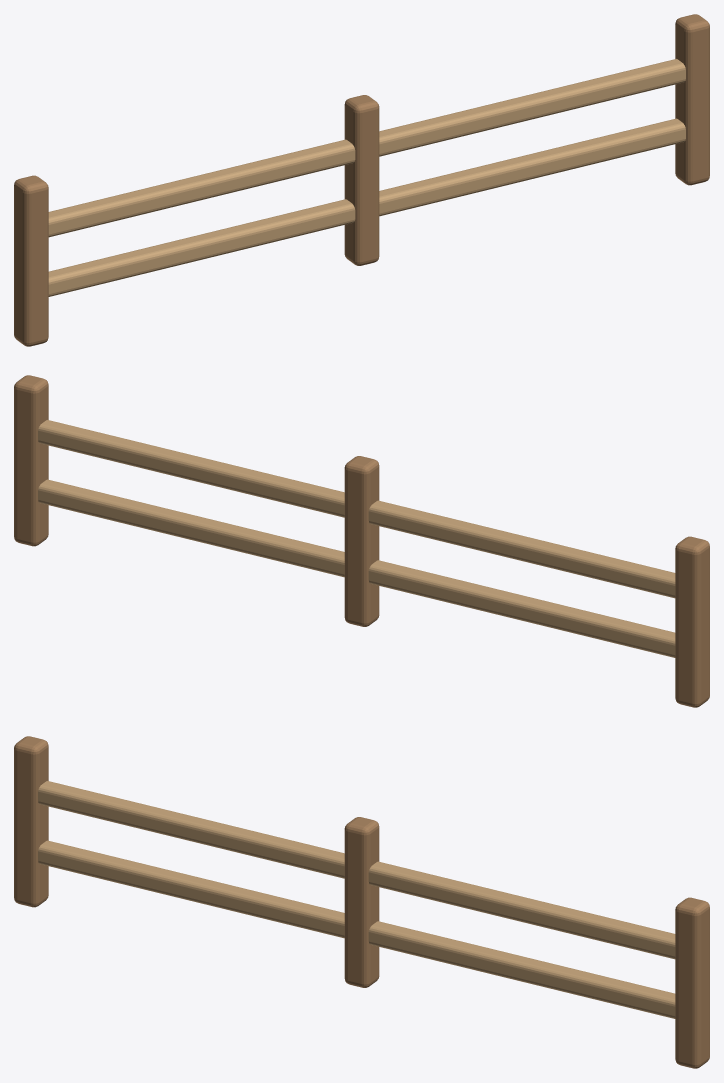
The picture shows the model from 3 angles, top to bottom: view 1: azimuth 30°, elevation 25°; view 2: azimuth 150°, elevation 25°; view 3: azimuth 330°, elevation 25°; orthographic projection.
Parts seen in each view (by area): view 1: LOD0_RURAL_FENCE_Rail, LOD0_RURAL_FENCE_Rail.001, LOD0_RURAL_FENCE_Post, LOD0_RURAL_FENCE_Post.001, LOD0_RURAL_FENCE_Post.002; view 2: LOD0_RURAL_FENCE_Rail, LOD0_RURAL_FENCE_Rail.001, LOD0_RURAL_FENCE_Post, LOD0_RURAL_FENCE_Post.001, LOD0_RURAL_FENCE_Post.002; view 3: LOD0_RURAL_FENCE_Rail, LOD0_RURAL_FENCE_Rail.001, LOD0_RURAL_FENCE_Post.002, LOD0_RURAL_FENCE_Post.001, LOD0_RURAL_FENCE_Post.
Part boxes in pixels (x1,y1,x2,y2): LOD0_RURAL_FENCE_Rail: [48, 118, 685, 296]; LOD0_RURAL_FENCE_Rail.001: [48, 59, 685, 237]; LOD0_RURAL_FENCE_Post: [14, 175, 48, 346]; LOD0_RURAL_FENCE_Post.001: [344, 95, 379, 265]; LOD0_RURAL_FENCE_Post.002: [675, 14, 709, 185]; LOD0_RURAL_FENCE_Rail: [38, 479, 675, 657]; LOD0_RURAL_FENCE_Rail.001: [38, 420, 675, 598]; LOD0_RURAL_FENCE_Post: [675, 536, 709, 707]; LOD0_RURAL_FENCE_Post.001: [344, 456, 379, 626]; LOD0_RURAL_FENCE_Post.002: [14, 375, 48, 546]; LOD0_RURAL_FENCE_Rail: [38, 840, 675, 1018]; LOD0_RURAL_FENCE_Rail.001: [38, 781, 675, 959]; LOD0_RURAL_FENCE_Post.002: [675, 897, 709, 1068]; LOD0_RURAL_FENCE_Post.001: [344, 817, 379, 987]; LOD0_RURAL_FENCE_Post: [14, 736, 48, 907].
Size of what is drawn, in the model's own units: 6.02 by 1.35 by 0.22.
